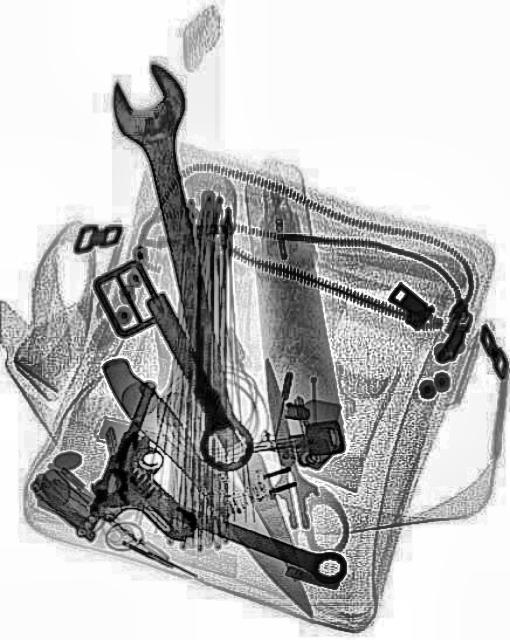Gun: (84, 376, 234, 558)
Knife: (94, 344, 326, 628), (142, 282, 318, 586), (241, 352, 323, 534)
Wrench: (102, 54, 270, 482), (83, 457, 350, 591)
